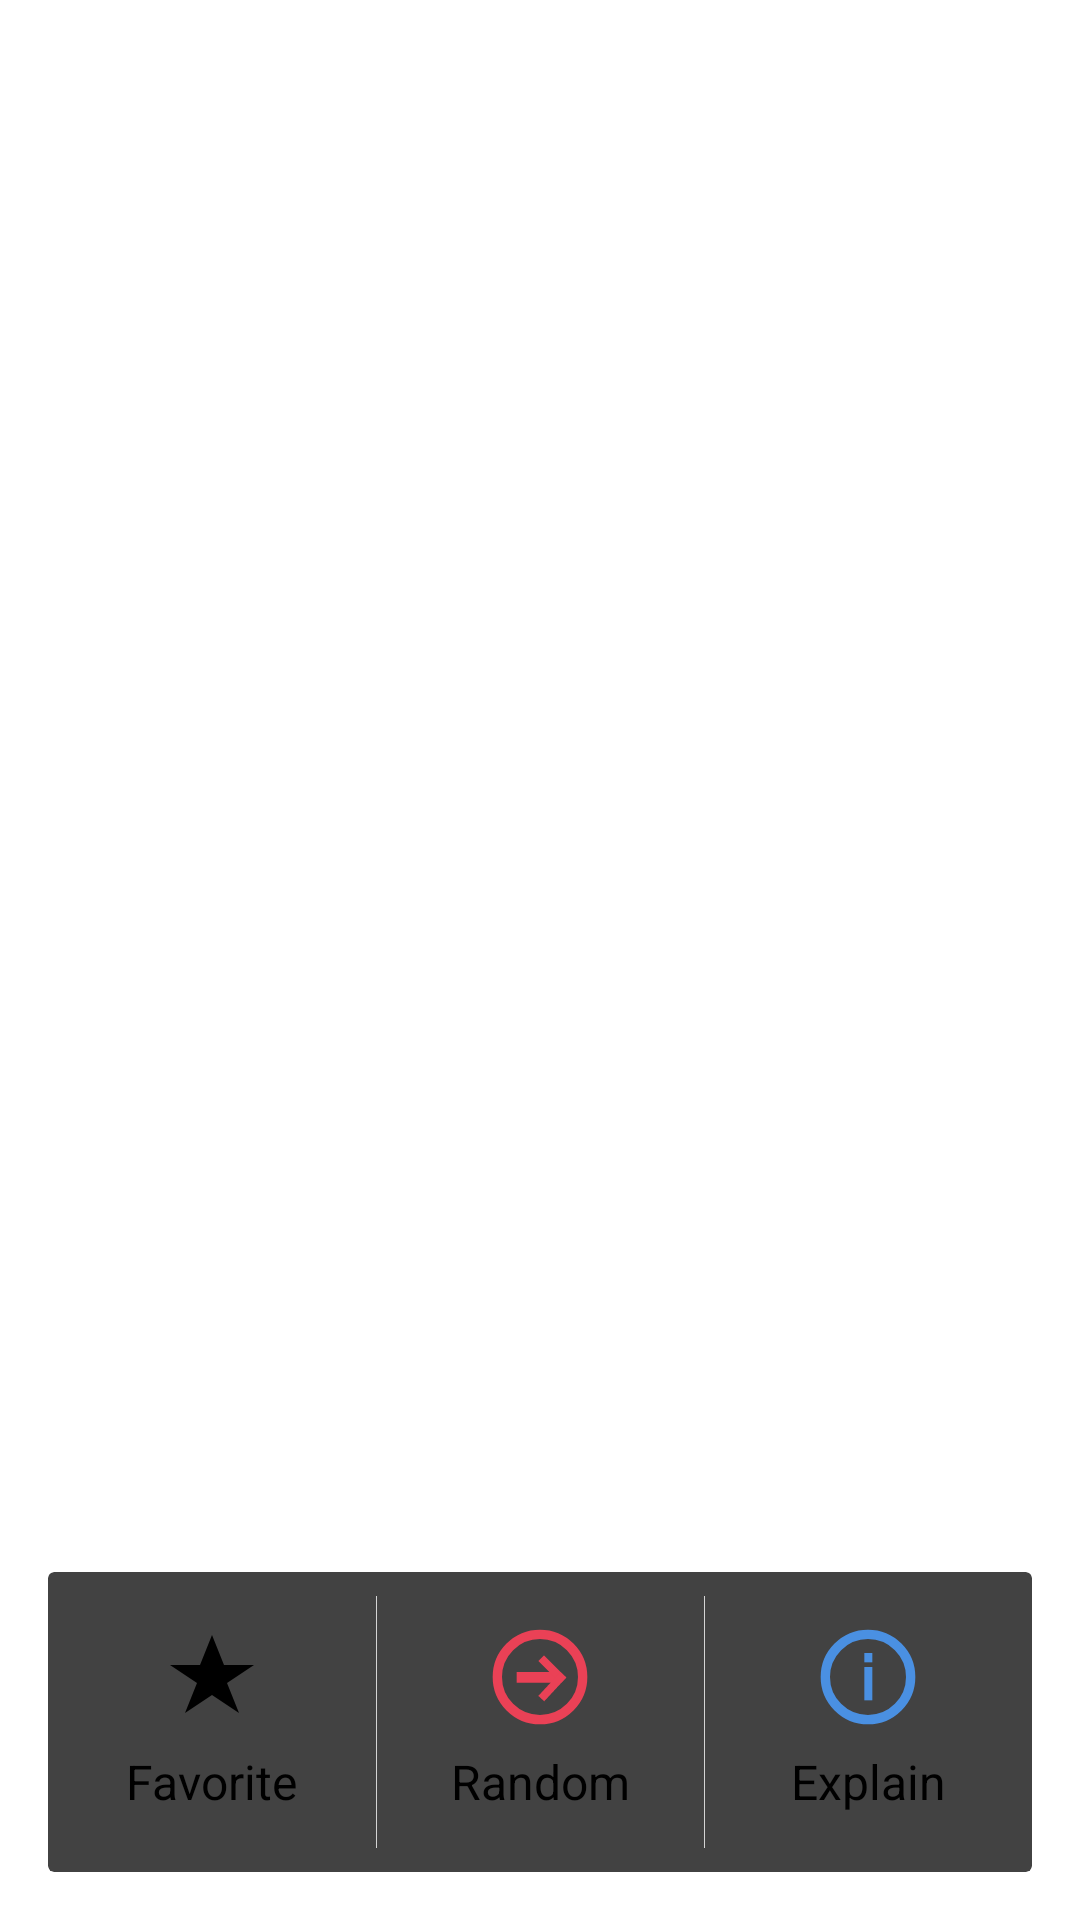

Named icons in this screenshot (1080w x 1920h) and their centers, point (x, y):
info: point (868, 1677)
next: point (540, 1677)
